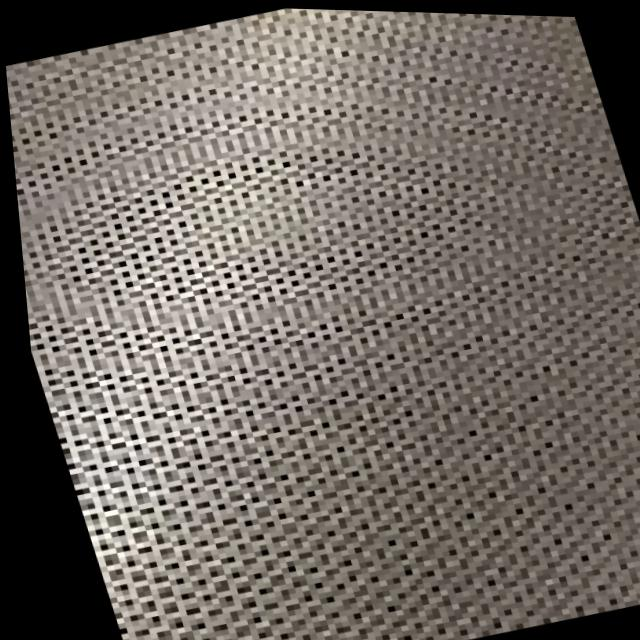metal-plates: (6, 8, 640, 640)
